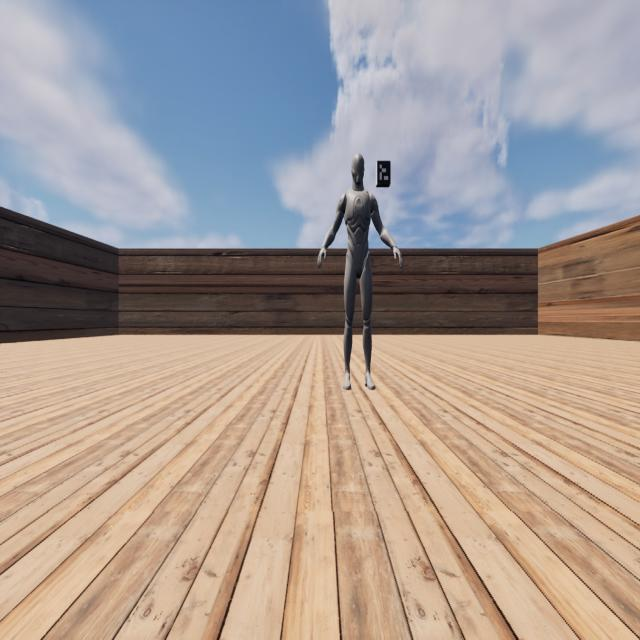aruco: (377, 160, 391, 184)
hip: (345, 250, 370, 260)
